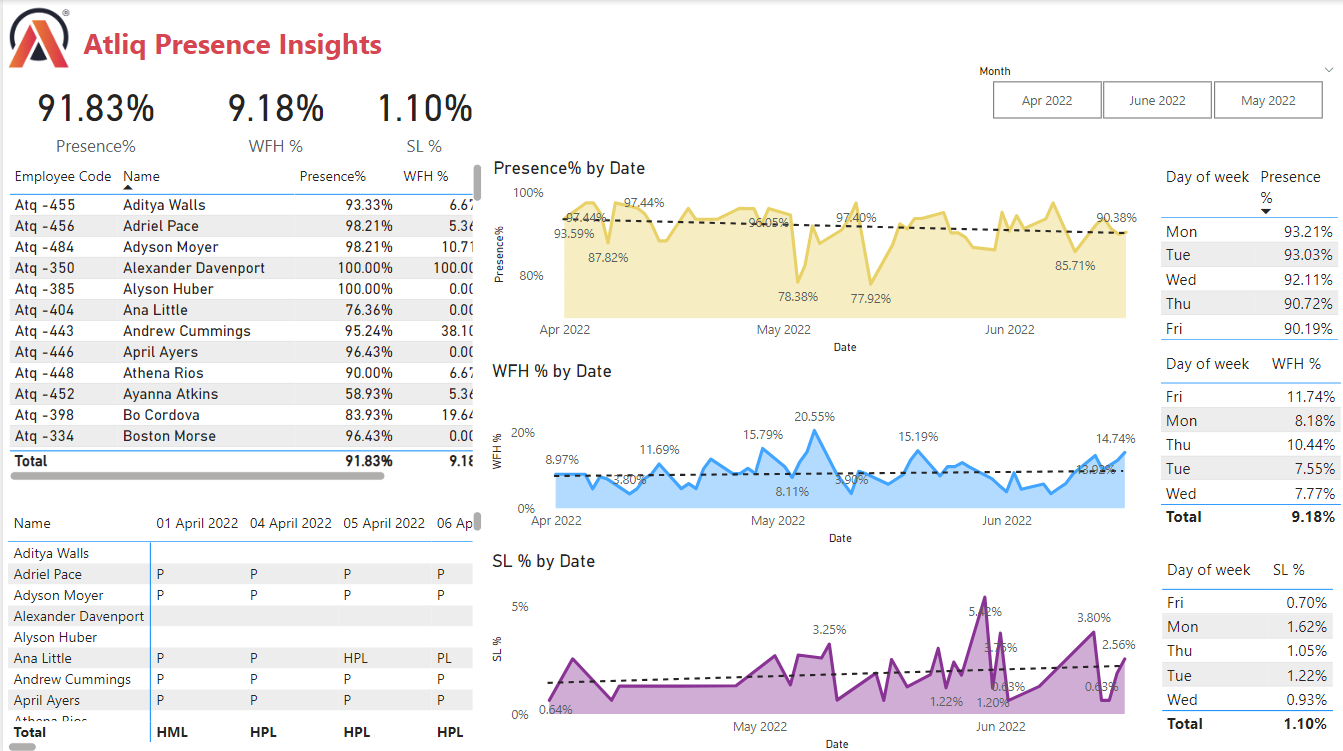

The page's visual inventory and layout, read from the dashboard file:
{"tool":"powerbi","page":{"name":"Page 1","canvas":[1280,720],"ordinal":0},"visuals":[{"type":"slicer","fields":{"Values":["FinalData.Table name"]},"box":[916.2,56.4,363.8,63.6],"z":0},{"type":"card","fields":{"Values":["Measure Data.Presence%"]},"box":[0,70.4,176.9,79.6],"z":1000,"group":"g1"},{"type":"tableEx","fields":{"Values":["FinalData.Employee Code","FinalData.Name","Measure Data.Presence%","Measure Data.WFH %","Measure Data.SL %"]},"box":[0,150.9,461.1,311.5],"z":1000},{"type":"card","fields":{"Values":["Measure Data.WFH %"]},"box":[176.9,70.4,164.9,79.6],"z":2000,"group":"g1"},{"type":"pivotTable","fields":{"Rows":["FinalData.Name"],"Values":["Min(FinalData.Value)"],"Columns":["FinalData.Date"]},"box":[0,481.6,461.1,238.8],"z":2000},{"type":"card","fields":{"Values":["Measure Data.SL %"]},"box":[341.8,70.2,119.3,79.6],"z":3000,"group":"g1"},{"type":"tableEx","fields":{"Values":["FinalData.Day of week","Measure Data.Presence%"]},"box":[1096.3,150.8,183.3,200.2],"z":3000},{"type":"tableEx","fields":{"Values":["FinalData.Day of week","Measure Data.SL %"]},"box":[1097.5,524.6,182.1,185.7],"z":4000},{"type":"tableEx","fields":{"Values":["FinalData.Day of week","Measure Data.WFH %"]},"box":[1096.3,328,183.3,183.3],"z":5000},{"type":"areaChart","fields":{"Category":["FinalData.Date"],"Y":["Measure Data.Presence%"]},"box":[461.3,150.5,636.7,192],"z":6000},{"type":"group","id":"g1","title":"Group 1","box":[0,70.2,460.6,79.7],"z":7000},{"type":"areaChart","fields":{"Category":["FinalData.Date"],"Y":["Measure Data.WFH %"]},"box":[461.1,343.1,636.7,181.1],"z":8000},{"type":"areaChart","fields":{"Category":["FinalData.Date"],"Y":["Measure Data.SL %"]},"box":[461.1,524.2,636.7,196.2],"z":9000},{"type":"textbox","box":[71.2,0,318.4,71.2],"z":10000,"group":"g2"},{"type":"image","box":[0,0,70,71],"z":11000,"group":"g2"},{"type":"group","id":"g2","title":"Group 2","box":[0,0,389.5,71.2],"z":11001}]}

Visuals, with their boxes in screenshot pixels (x1, y1, x2, y2), scaled from the page's 1280x720 canvas onto the 1343x751 screenshot:
slicer - FinalData.Table name: select_region(961, 59, 1342, 125)
card - Measure Data.Presence%: select_region(0, 73, 186, 156)
tableEx - FinalData.Employee Code x FinalData.Name: select_region(0, 157, 484, 482)
card - Measure Data.WFH %: select_region(186, 73, 359, 156)
pivotTable - FinalData.Name x Min(FinalData.Value): select_region(0, 502, 484, 750)
card - Measure Data.SL %: select_region(359, 73, 484, 156)
tableEx - FinalData.Day of week x Measure Data.Presence%: select_region(1150, 157, 1342, 366)
tableEx - FinalData.Day of week x Measure Data.SL %: select_region(1152, 547, 1342, 741)
tableEx - FinalData.Day of week x Measure Data.WFH %: select_region(1150, 342, 1342, 533)
areaChart - FinalData.Date x Measure Data.Presence%: select_region(484, 157, 1152, 357)
"Group 1" group: select_region(0, 73, 483, 156)
areaChart - FinalData.Date x Measure Data.WFH %: select_region(484, 358, 1152, 547)
areaChart - FinalData.Date x Measure Data.SL %: select_region(484, 547, 1152, 750)
textbox: select_region(75, 0, 409, 74)
image: select_region(0, 0, 73, 74)
"Group 2" group: select_region(0, 0, 409, 74)
